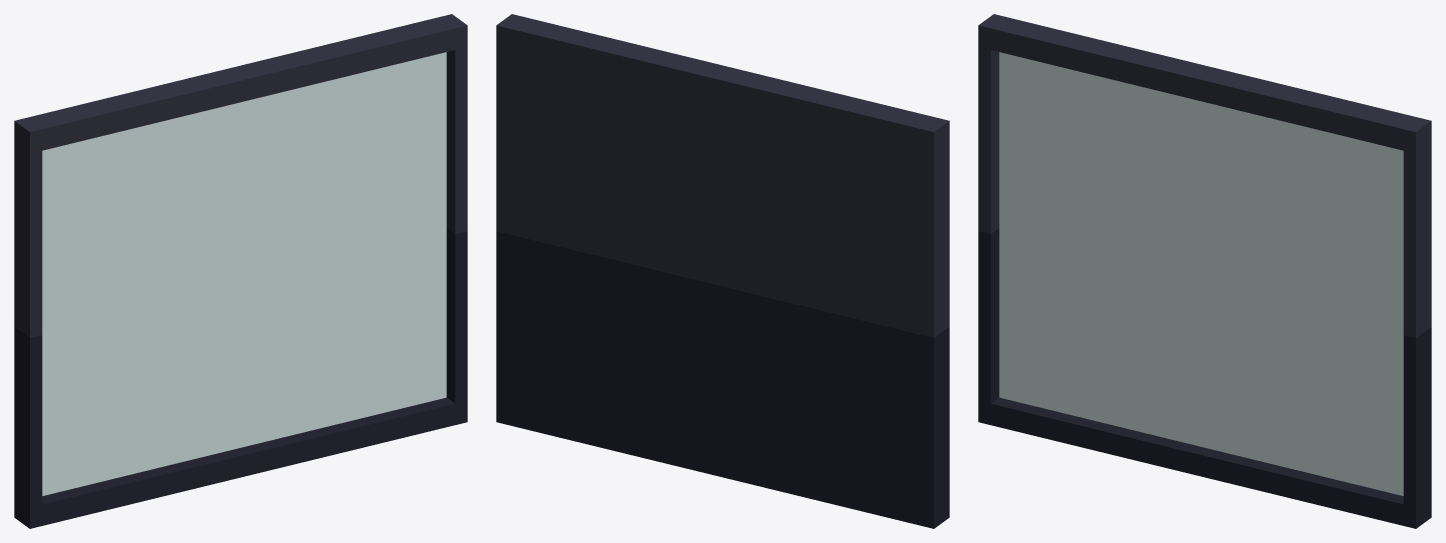
File: ventana_inf02.fbx
3 views of the same model, side by side, from view 1: azimuth 30°, elevation 25°; view 2: azimuth 150°, elevation 25°; view 3: azimuth 330°, elevation 25° (orthographic).
Parts seen in each view (by area): view 1: ventana_inf02; view 2: ventana_inf02; view 3: ventana_inf02.
Boxes of the visible parts, <box> form: ventana_inf02: <box>14,14,467,528</box>; ventana_inf02: <box>496,14,949,528</box>; ventana_inf02: <box>978,14,1431,528</box>.
Bounding box in the file's own units: 268 × 232 × 16.56.
